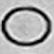no answer: (3, 8, 54, 48)
